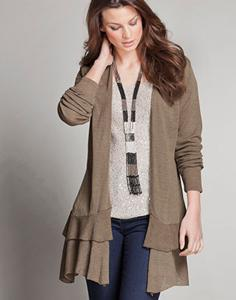C_cardigan sweater: (54, 41, 210, 278)
